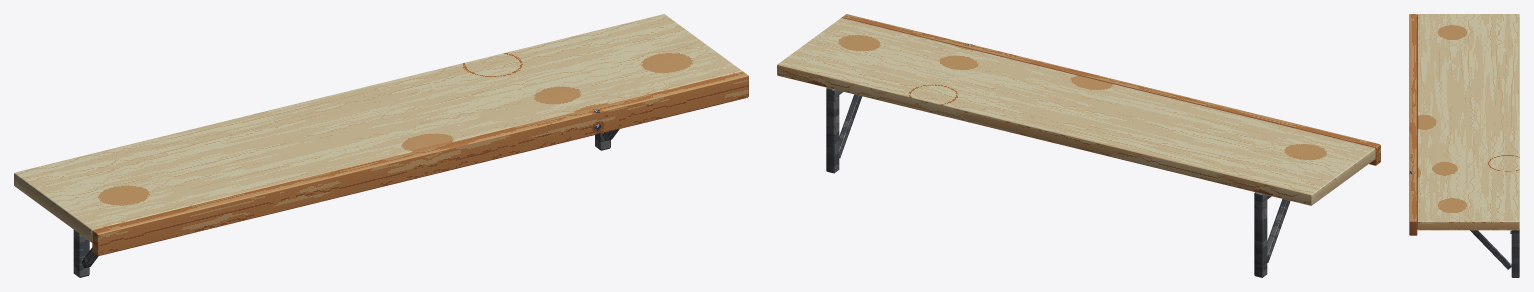
File: gk_plank.glb
3 views of the same model, side by side, from view 1: azimuth 30°, elevation 25°; view 2: azimuth 150°, elevation 25°; view 3: azimuth 270°, elevation 25° (orthographic). The views are drawn at different scales.
Parts seen in each view (by area): view 1: mesh; view 2: mesh; view 3: mesh.
Part boxes in pixels (x1=…): mesh: x1=14, y1=14, x2=748, y2=277; mesh: x1=777, y1=14, x2=1380, y2=277; mesh: x1=1409, y1=14, x2=1519, y2=277.
Bounding box in the file's own units: 1.2 × 0.2049 × 0.27.
Materials: 1 (1 with a texture image).
